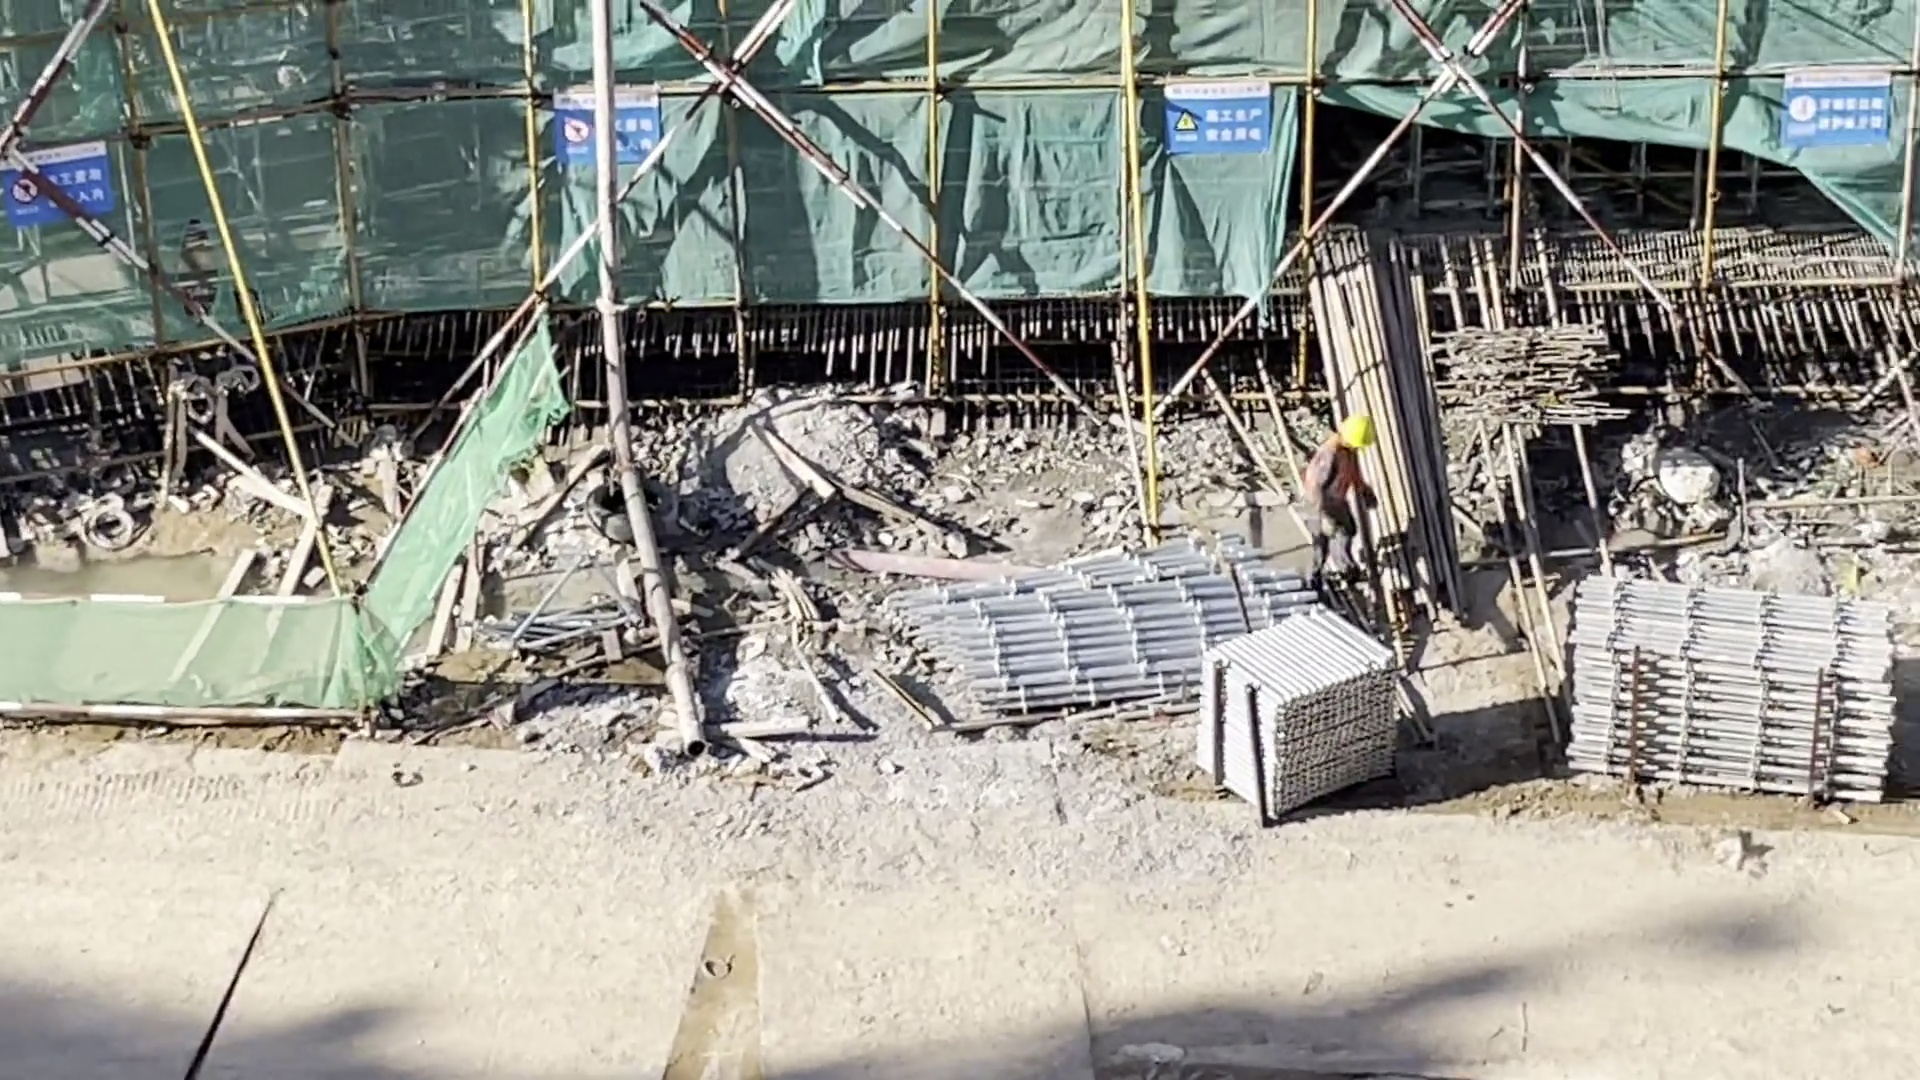helmet: (1336, 413, 1377, 451)
person: (1299, 412, 1374, 595)
scaffold: (1558, 568, 1894, 816), (894, 537, 1195, 718), (1192, 604, 1408, 821)
slogan: (1778, 64, 1890, 152), (550, 89, 663, 168), (1, 145, 120, 219), (1160, 82, 1273, 152)
vest: (1305, 438, 1353, 536)
